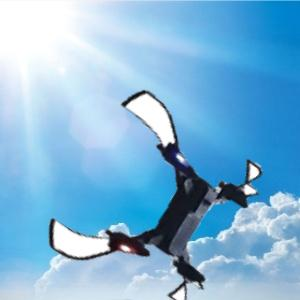drone: (59, 111, 249, 300)
